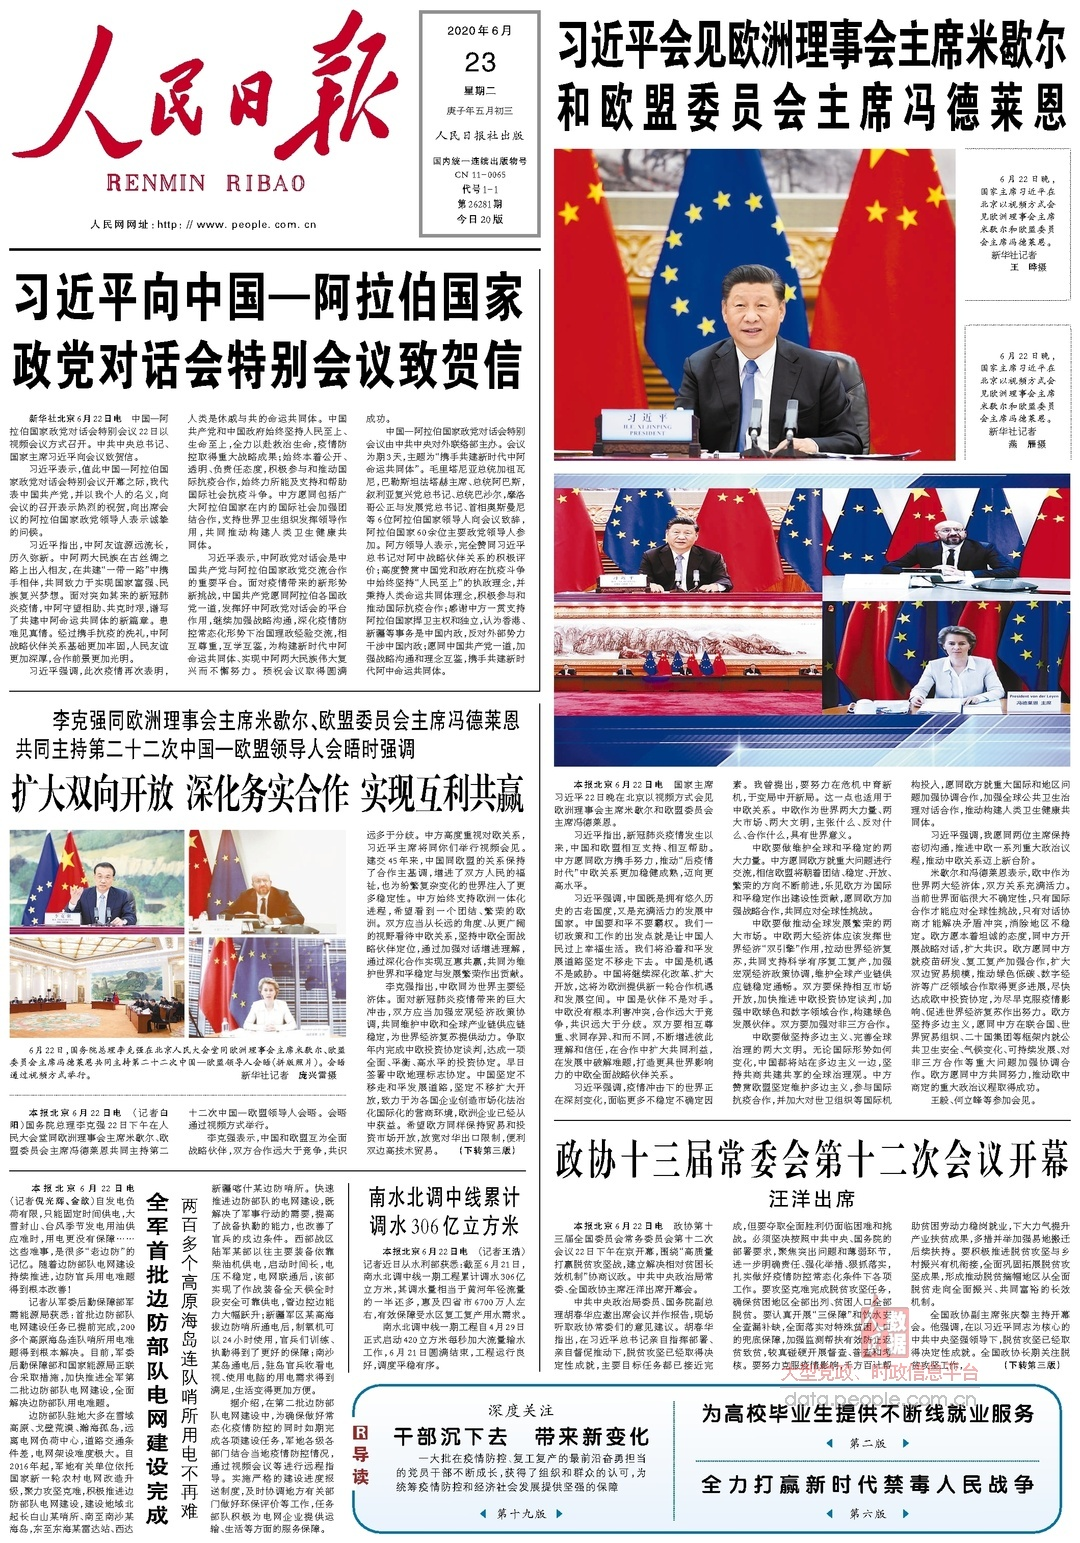pic: (548, 465, 1074, 768), (550, 143, 962, 465), (5, 825, 349, 1044)
